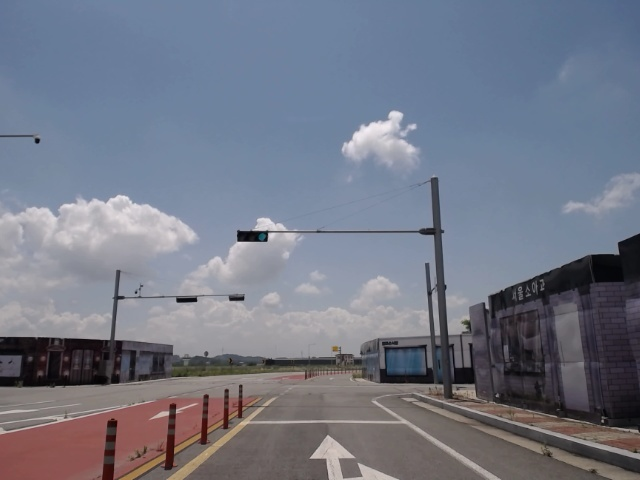green_3: (237, 231, 268, 242)
